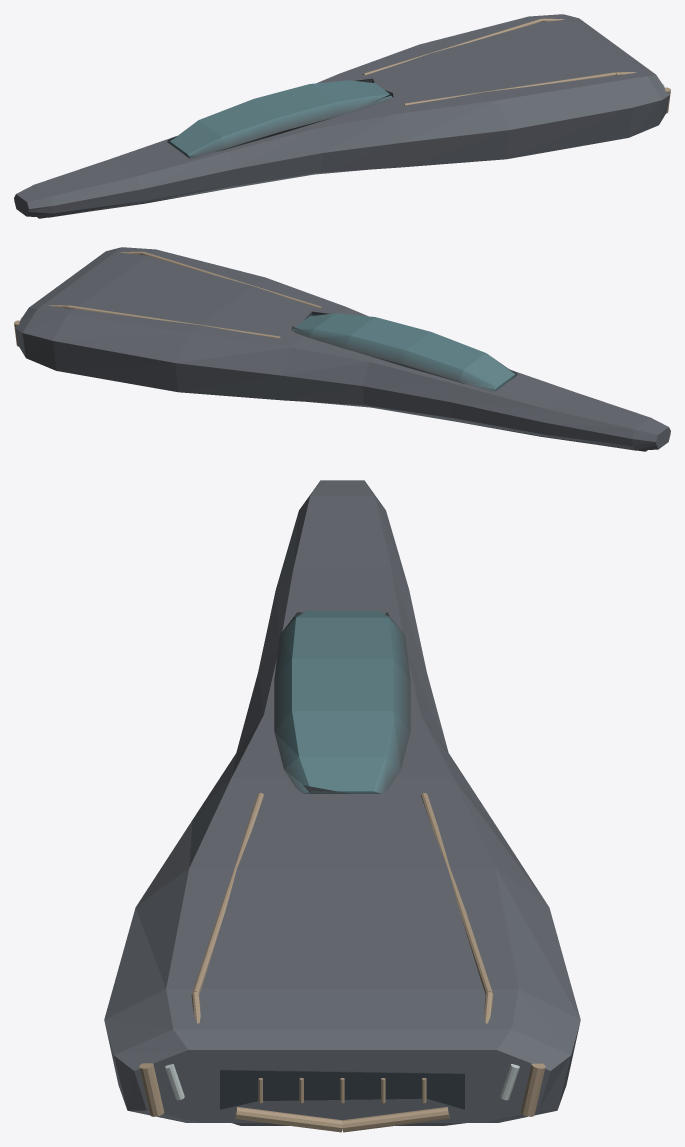
File: jetjet_black_parked.glb
The picture shows the model from 3 angles, top to bottom: view 1: azimuth 30°, elevation 25°; view 2: azimuth 150°, elevation 25°; view 3: azimuth 270°, elevation 25°; orthographic projection. The views are drawn at different scales.
Parts seen in each view (by area): view 1: hull_0, cockpit_frame_2, bonnet_edge_3, lower_keel_1; view 2: hull_0, cockpit_frame_2, bonnet_edge_3, lower_keel_1; view 3: hull_0, cockpit_frame_2, front_grille_7, bonnet_edge_3, front_chevron_6, front_corner_4.
Boxes of the visible parts, x1=… form: hull_0: x1=14, y1=14, x2=669, y2=217; cockpit_frame_2: x1=167, y1=78, x2=393, y2=159; bonnet_edge_3: x1=362, y1=18, x2=636, y2=105; lower_keel_1: x1=37, y1=169, x2=367, y2=218; hull_0: x1=15, y1=247, x2=670, y2=450; cockpit_frame_2: x1=291, y1=311, x2=517, y2=392; bonnet_edge_3: x1=48, y1=251, x2=322, y2=338; lower_keel_1: x1=310, y1=402, x2=647, y2=451; hull_0: x1=104, y1=480, x2=580, y2=1122; cockpit_frame_2: x1=274, y1=610, x2=410, y2=793; front_grille_7: x1=220, y1=1069, x2=464, y2=1109; bonnet_edge_3: x1=191, y1=793, x2=493, y2=1023; front_chevron_6: x1=235, y1=1107, x2=449, y2=1132; front_corner_4: x1=139, y1=1063, x2=545, y2=1116.
Bounding box in the file's own units: 10.17 × 1.23 × 3.5.
